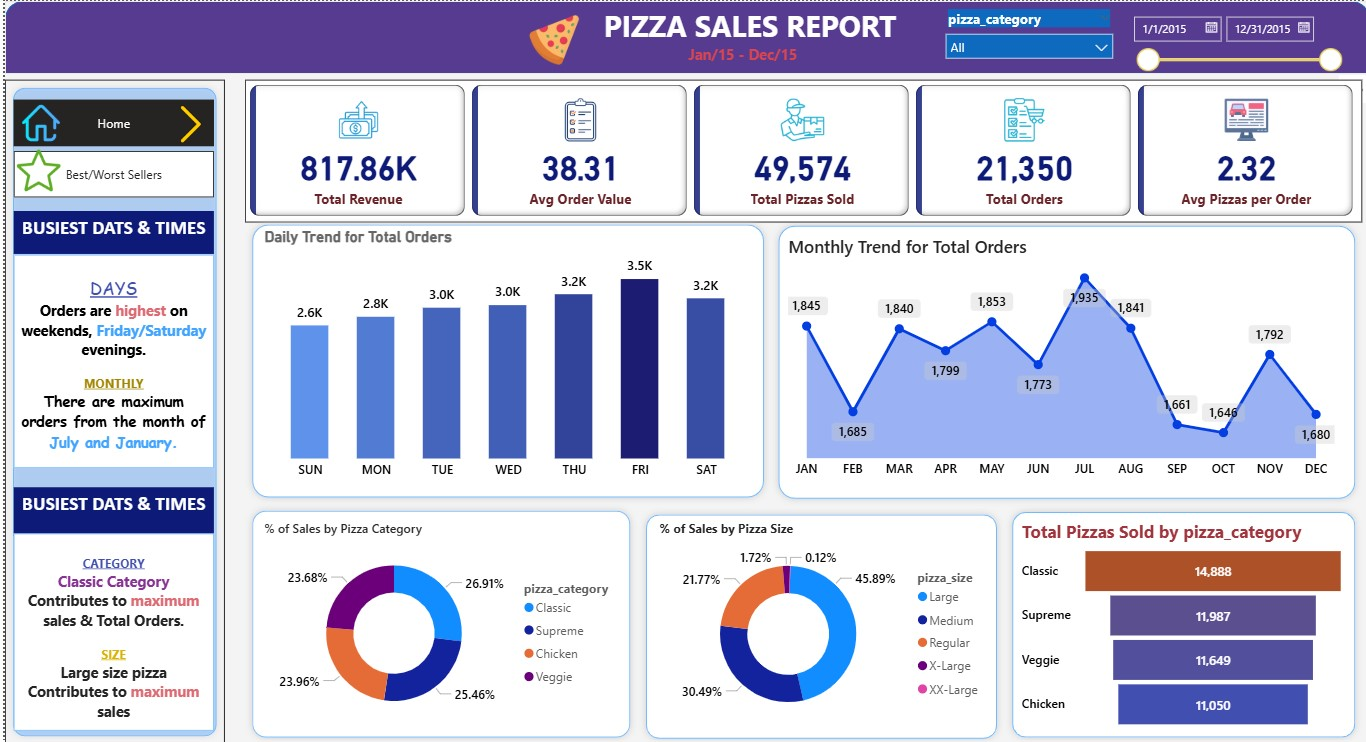

This screenshot's page, from the dashboard's own definition file:
{"tool":"powerbi","page":{"name":"Home","canvas":[1500,820],"ordinal":0},"visuals":[{"type":"shape","box":[0,86.6,241.8,731],"z":0},{"type":"shape","box":[0,0,1500,80],"z":1000},{"type":"shape","box":[842.3,239.1,649.9,316],"z":2000},{"type":"cardVisual","fields":{"Data":["sales.Total Revenue","sales.Avg Order Value","sales.Total Pizzas Sold","sales.Total Orders","sales.Avg Pizzas per Order"]},"box":[263.8,86.6,1228.4,156.6],"z":3000},{"type":"shape","box":[263.8,237.7,578.5,316],"z":4000},{"type":"columnChart","title":"Daily Trend for Total Orders","fields":{"Category":["sales.Order day"],"Y":["sales.Total Orders"]},"box":[280.3,248.7,546.9,285.8],"z":5000},{"type":"textbox","box":[10,278.6,220,234.3],"z":6000},{"type":"textbox","box":[629.3,0,379.2,60.5],"z":7000},{"type":"textbox","box":[746.1,42.6,144.3,44],"z":8000},{"type":"image","box":[543.9,9.1,119.7,66.7],"z":9000},{"type":"shape","box":[263.8,552.3,431.4,265.2],"z":10000},{"type":"shape","box":[1099.2,553.7,393,263.8],"z":11000},{"type":"shape","box":[696.4,557.1,401.8,262.5],"z":12000},{"type":"areaChart","title":"Monthly Trend for Total Orders","fields":{"Category":["sales.Order Month"],"Y":["sales.Total Orders"]},"box":[855.4,257.1,610.7,276.8],"z":13000},{"type":"donutChart","title":"% of Sales by Pizza Category","fields":{"Category":["sales.pizza_category"],"Y":["sales.Total Revenue"]},"box":[280.3,570.2,404,232.2],"z":14000},{"type":"donutChart","title":"% of Sales by Pizza Size","fields":{"Category":["sales.pizza_size"],"Y":["sales.Total Revenue"]},"box":[714.3,569.6,373.2,233.9],"z":15000},{"type":"funnel","fields":{"Category":["sales.pizza_category"],"Y":["sales.Total Pizzas Sold"]},"box":[1112.9,570.2,365.5,235],"z":16000},{"type":"textbox","box":[10,231.4,220,47.1],"z":17000},{"type":"textbox","box":[10,534.3,220,52.9],"z":18000},{"type":"textbox","box":[10,585.7,220,217.1],"z":19000},{"type":"slicer","fields":{"Values":["sales.pizza_category"]},"box":[1024.3,4.3,204.3,71.4],"z":20000},{"type":"slicer","fields":{"Values":["sales.order_date"]},"box":[1228.6,7.1,250,71.4],"z":21000},{"type":"pageNavigator","box":[10,108.6,220,51.4],"z":22000},{"type":"pageNavigator","box":[10,164.3,220,51.4],"z":23000},{"type":"image","box":[178.6,105.7,51.4,58.6],"z":24000},{"type":"image","box":[12.9,108.6,54.3,51.4],"z":25000},{"type":"image","box":[8.2,156.6,57.7,59.1],"z":26000}]}

Visuals, with their boxes in screenshot pixels (x1, y1, x2, y2), scaled from the page's 1500x820 canvas onto the 1366x742 screenshot:
shape: x1=0, y1=78, x2=220, y2=740
shape: x1=0, y1=0, x2=1365, y2=72
shape: x1=767, y1=216, x2=1359, y2=502
cardVisual - sales.Total Revenue x sales.Avg Order Value: x1=240, y1=78, x2=1359, y2=220
shape: x1=240, y1=215, x2=767, y2=501
"Daily Trend for Total Orders" columnChart: x1=255, y1=225, x2=753, y2=484
textbox: x1=9, y1=252, x2=209, y2=464
textbox: x1=573, y1=0, x2=918, y2=55
textbox: x1=679, y1=39, x2=811, y2=78
image: x1=495, y1=8, x2=604, y2=69
shape: x1=240, y1=500, x2=633, y2=740
shape: x1=1001, y1=501, x2=1359, y2=740
shape: x1=634, y1=504, x2=1000, y2=741
"Monthly Trend for Total Orders" areaChart: x1=779, y1=233, x2=1335, y2=483
"% of Sales by Pizza Category" donutChart: x1=255, y1=516, x2=623, y2=726
"% of Sales by Pizza Size" donutChart: x1=650, y1=515, x2=990, y2=727
funnel - sales.pizza_category x sales.Total Pizzas Sold: x1=1013, y1=516, x2=1346, y2=729
textbox: x1=9, y1=209, x2=209, y2=252
textbox: x1=9, y1=483, x2=209, y2=531
textbox: x1=9, y1=530, x2=209, y2=726
slicer - sales.pizza_category: x1=933, y1=4, x2=1119, y2=68
slicer - sales.order_date: x1=1119, y1=6, x2=1347, y2=71
pageNavigator: x1=9, y1=98, x2=209, y2=145
pageNavigator: x1=9, y1=149, x2=209, y2=195
image: x1=163, y1=96, x2=209, y2=149
image: x1=12, y1=98, x2=61, y2=145
image: x1=7, y1=142, x2=60, y2=195
